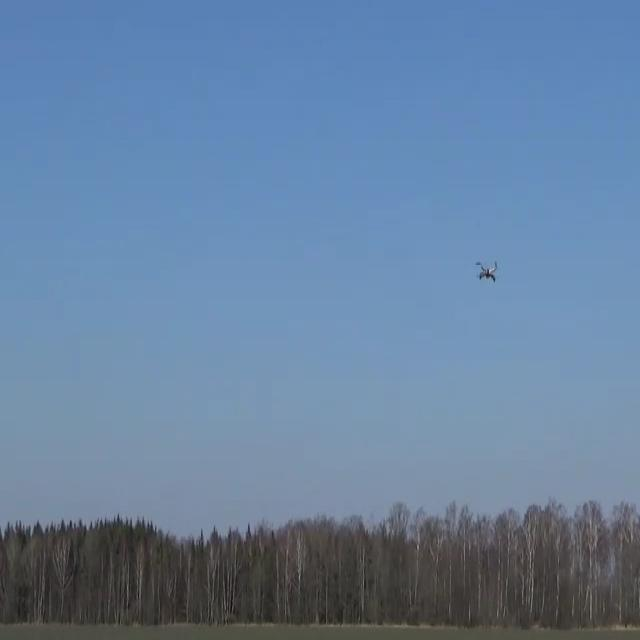Drone: (470, 254, 509, 294)
